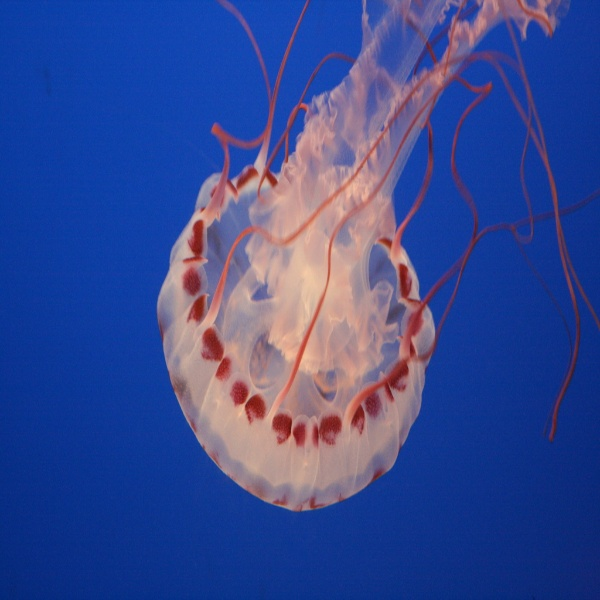Jellyfish: (156, 0, 599, 511)
